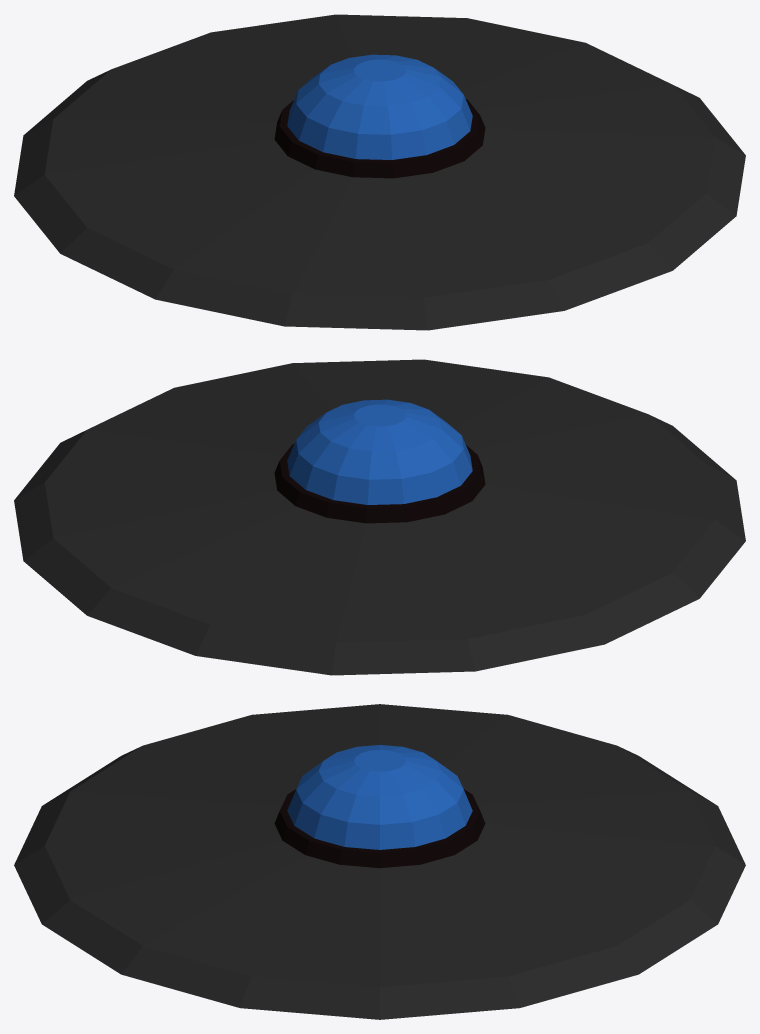
The model's file is UFO_low_poly.fbx.
The picture shows the model from 3 angles, top to bottom: view 1: azimuth 30°, elevation 25°; view 2: azimuth 150°, elevation 25°; view 3: azimuth 270°, elevation 25°; orthographic projection.
Visible parts, largest first — view 1: Spindle001ufo; view 2: Spindle001ufo; view 3: Spindle001ufo.
Part boxes in pixels (left/top/right/bottom): Spindle001ufo: left=14, top=14, right=745, bottom=330; Spindle001ufo: left=14, top=359, right=745, bottom=675; Spindle001ufo: left=14, top=704, right=745, bottom=1019.
Size of the model in its own units: 63.27 by 17.01 by 63.27.
